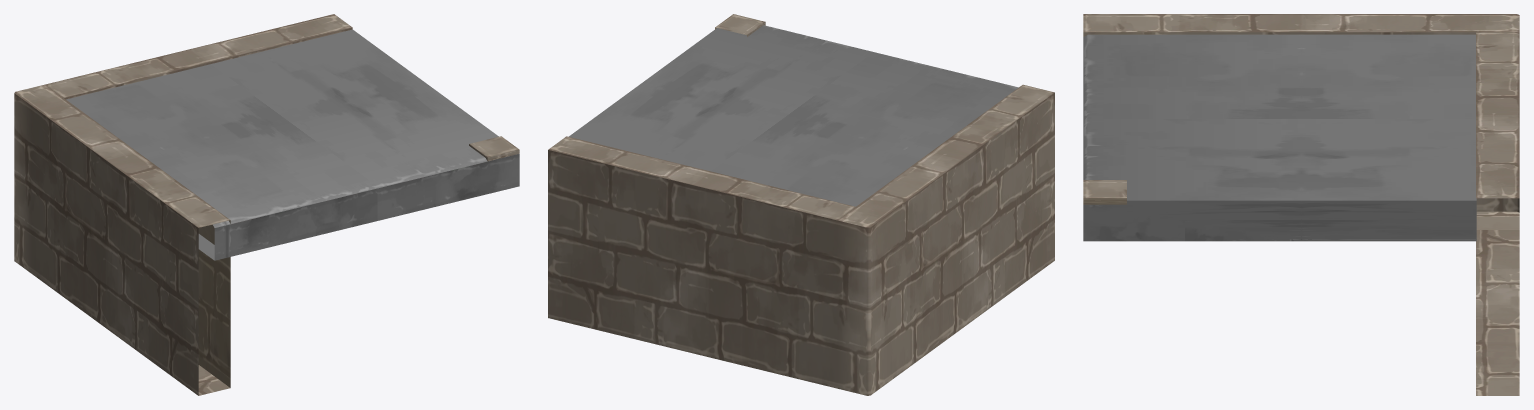
Rendered from Stairs_Exterior_Platform45.gltf.
3 views of the same model, side by side, from view 1: azimuth 30°, elevation 25°; view 2: azimuth 150°, elevation 25°; view 3: azimuth 270°, elevation 25° (orthographic). The views are drawn at different scales.
Visible parts, largest first — view 1: Stairs_Exterior_Platform45; view 2: Stairs_Exterior_Platform45; view 3: Stairs_Exterior_Platform45.
Part boxes in pixels (<box>): Stairs_Exterior_Platform45: <box>14,14,519,395</box>; Stairs_Exterior_Platform45: <box>548,14,1054,395</box>; Stairs_Exterior_Platform45: <box>1083,14,1519,395</box>.
Size of the model in its own units: 2 by 1 by 2.
Materials: 2 (2 with a texture image).
